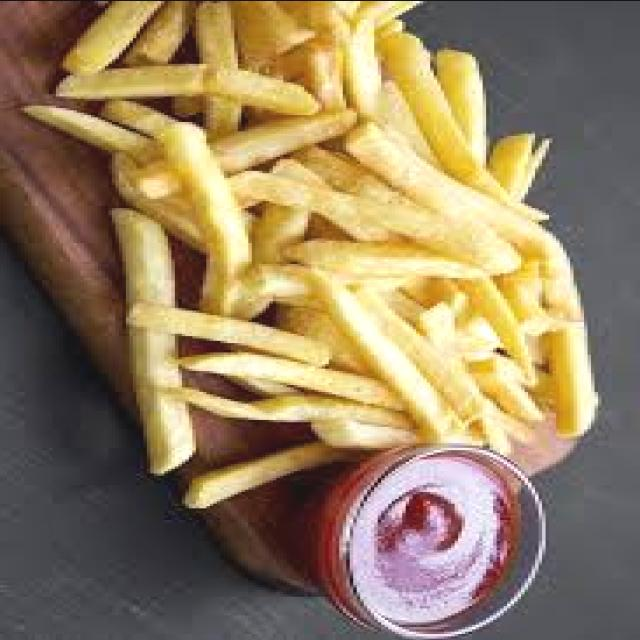kentang goreng: (17, 0, 598, 507)
